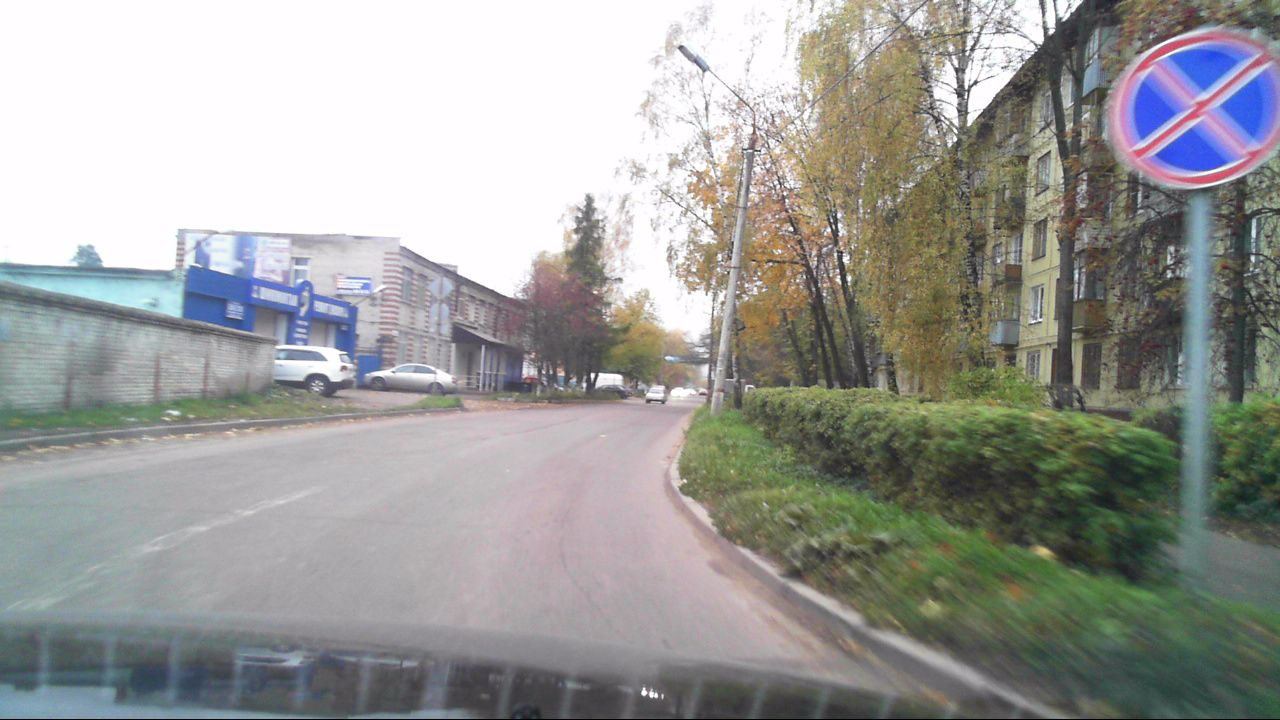No Parking: (1106, 28, 1279, 188)
